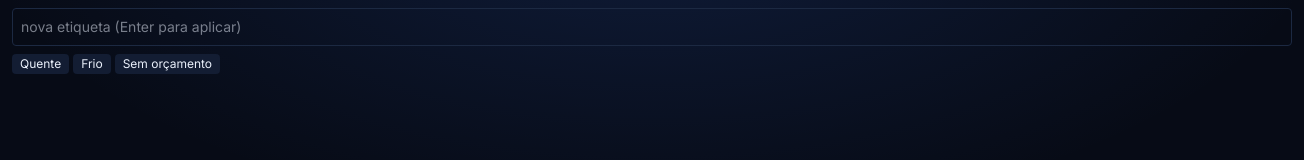
it: EditorEtiquetas — sugestoes › filtra as conhecidas pelo texto digitado, sem diferenciar caixa
This screenshot has width=1304, height=160.
In the field with placeholder "nova etiqueta (Enter para aplicar)": (652, 27) x1=12 y1=8 x2=1292 y2=46, type "que"
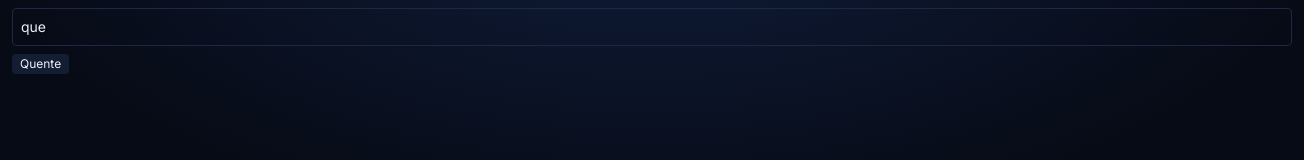
Check: the button "Quente" is shown, box x1=12 y1=54 x2=69 y2=74
Check: the button "Frio" is gone
